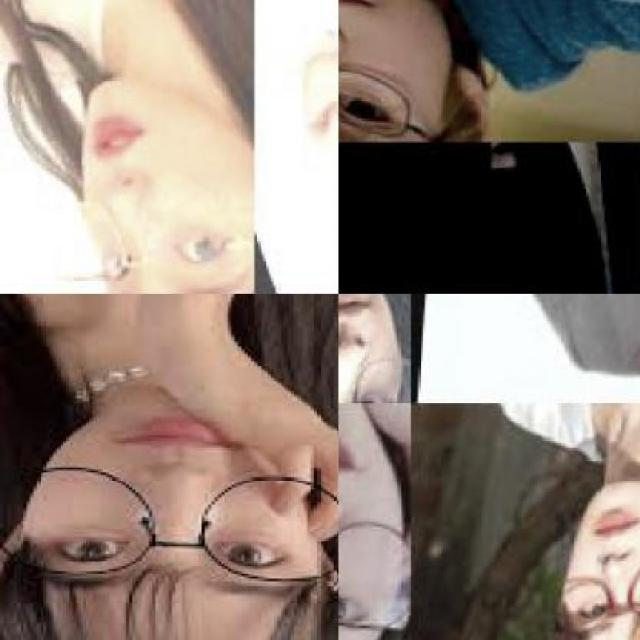glasses: (0, 468, 337, 590), (30, 193, 256, 292), (338, 67, 452, 143), (543, 550, 639, 638)
